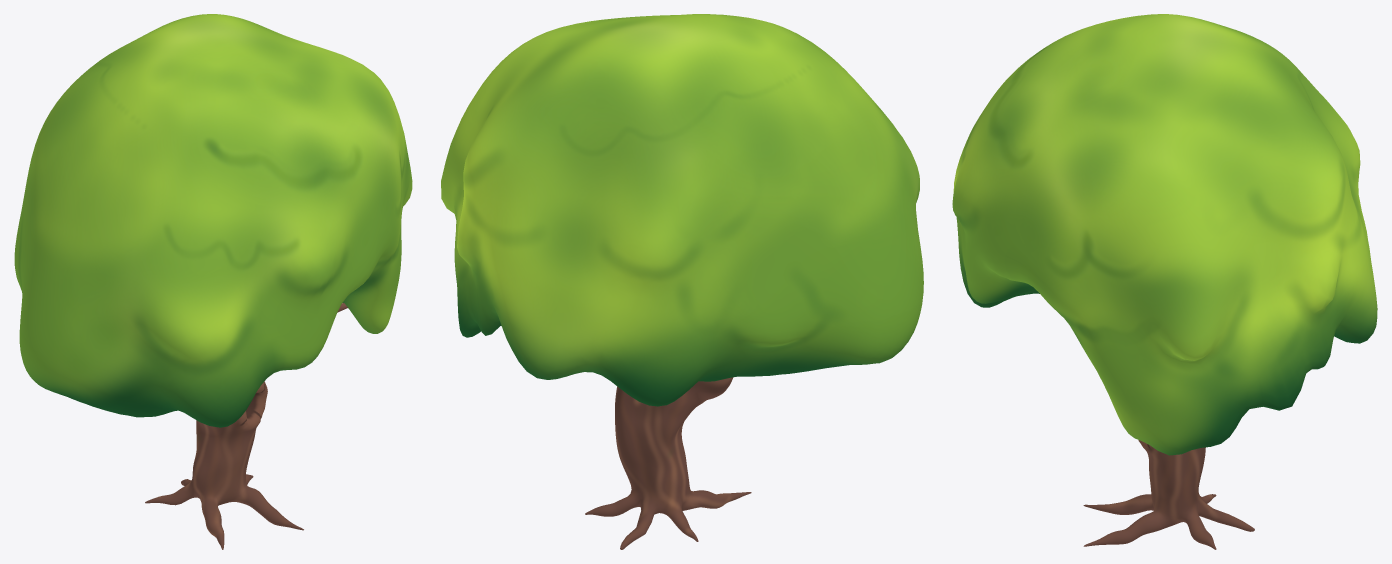
File: tree.glb
3 renders of one model, left to right at view 1: azimuth 30°, elevation 25°; view 2: azimuth 150°, elevation 25°; view 3: azimuth 270°, elevation 25°, orthographic. The views are drawn at different scales.
Parts seen in each view (by area): view 1: PM3D_Sphere3D_2, PM3D_Sphere3D_1; view 2: PM3D_Sphere3D_2, PM3D_Sphere3D_1; view 3: PM3D_Sphere3D_2, PM3D_Sphere3D_1.
Part boxes in pixels (<box>): PM3D_Sphere3D_2: <box>14,14,412,427</box>; PM3D_Sphere3D_1: <box>145,303,347,549</box>; PM3D_Sphere3D_2: <box>441,14,923,406</box>; PM3D_Sphere3D_1: <box>585,377,751,549</box>; PM3D_Sphere3D_2: <box>952,14,1377,455</box>; PM3D_Sphere3D_1: <box>1083,440,1254,549</box>.
Bounding box in the file's own units: 10.75 × 11.93 × 9.35.
Materials: 2 (2 with a texture image).
